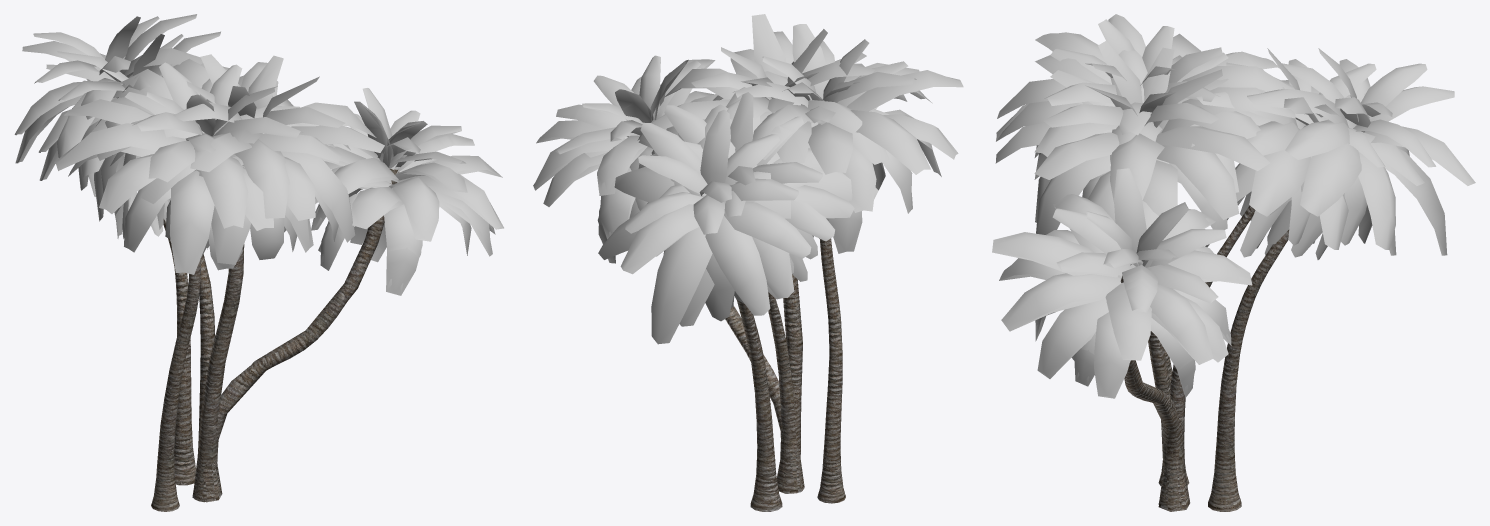
Rendered from BSwap_PalmTrees_01.dae.
The picture shows the model from 3 angles, left to right: view 1: azimuth 30°, elevation 25°; view 2: azimuth 150°, elevation 25°; view 3: azimuth 270°, elevation 25°; orthographic projection. The views are drawn at different scales.
Visible parts, largest first — view 1: Palm_02, Palm_02_LoD, Palm_03, Palm_01, Palm_03_LoD, Palm_01_LoD; view 2: Palm_01, Palm_02, Palm_01_LoD, Palm_02_LoD, Palm_03, Palm_03_LoD; view 3: Palm_03, Palm_02_LoD, Palm_01, Palm_02, Palm_01_LoD, Palm_03_LoD.
Boxes of the visible parts, <box> form: Palm_02: <box>54,62,343,511</box>; Palm_02_LoD: <box>96,54,384,500</box>; Palm_03: <box>194,88,503,502</box>; Palm_01: <box>14,14,229,485</box>; Palm_03_LoD: <box>194,92,503,496</box>; Palm_01_LoD: <box>38,31,222,502</box>; Palm_01: <box>598,104,854,511</box>; Palm_02: <box>713,24,963,503</box>; Palm_01_LoD: <box>638,87,878,493</box>; Palm_02_LoD: <box>651,14,919,492</box>; Palm_03: <box>533,55,804,493</box>; Palm_03_LoD: <box>536,60,796,491</box>; Palm_03: <box>992,168,1251,509</box>; Palm_02_LoD: <box>995,41,1295,509</box>; Palm_01: <box>1208,48,1475,511</box>; Palm_02: <box>996,14,1294,485</box>; Palm_01_LoD: <box>1158,48,1424,511</box>; Palm_03_LoD: <box>992,202,1252,508</box>.
Size of the model in its own units: 10.03 by 9.51 by 10.03.
